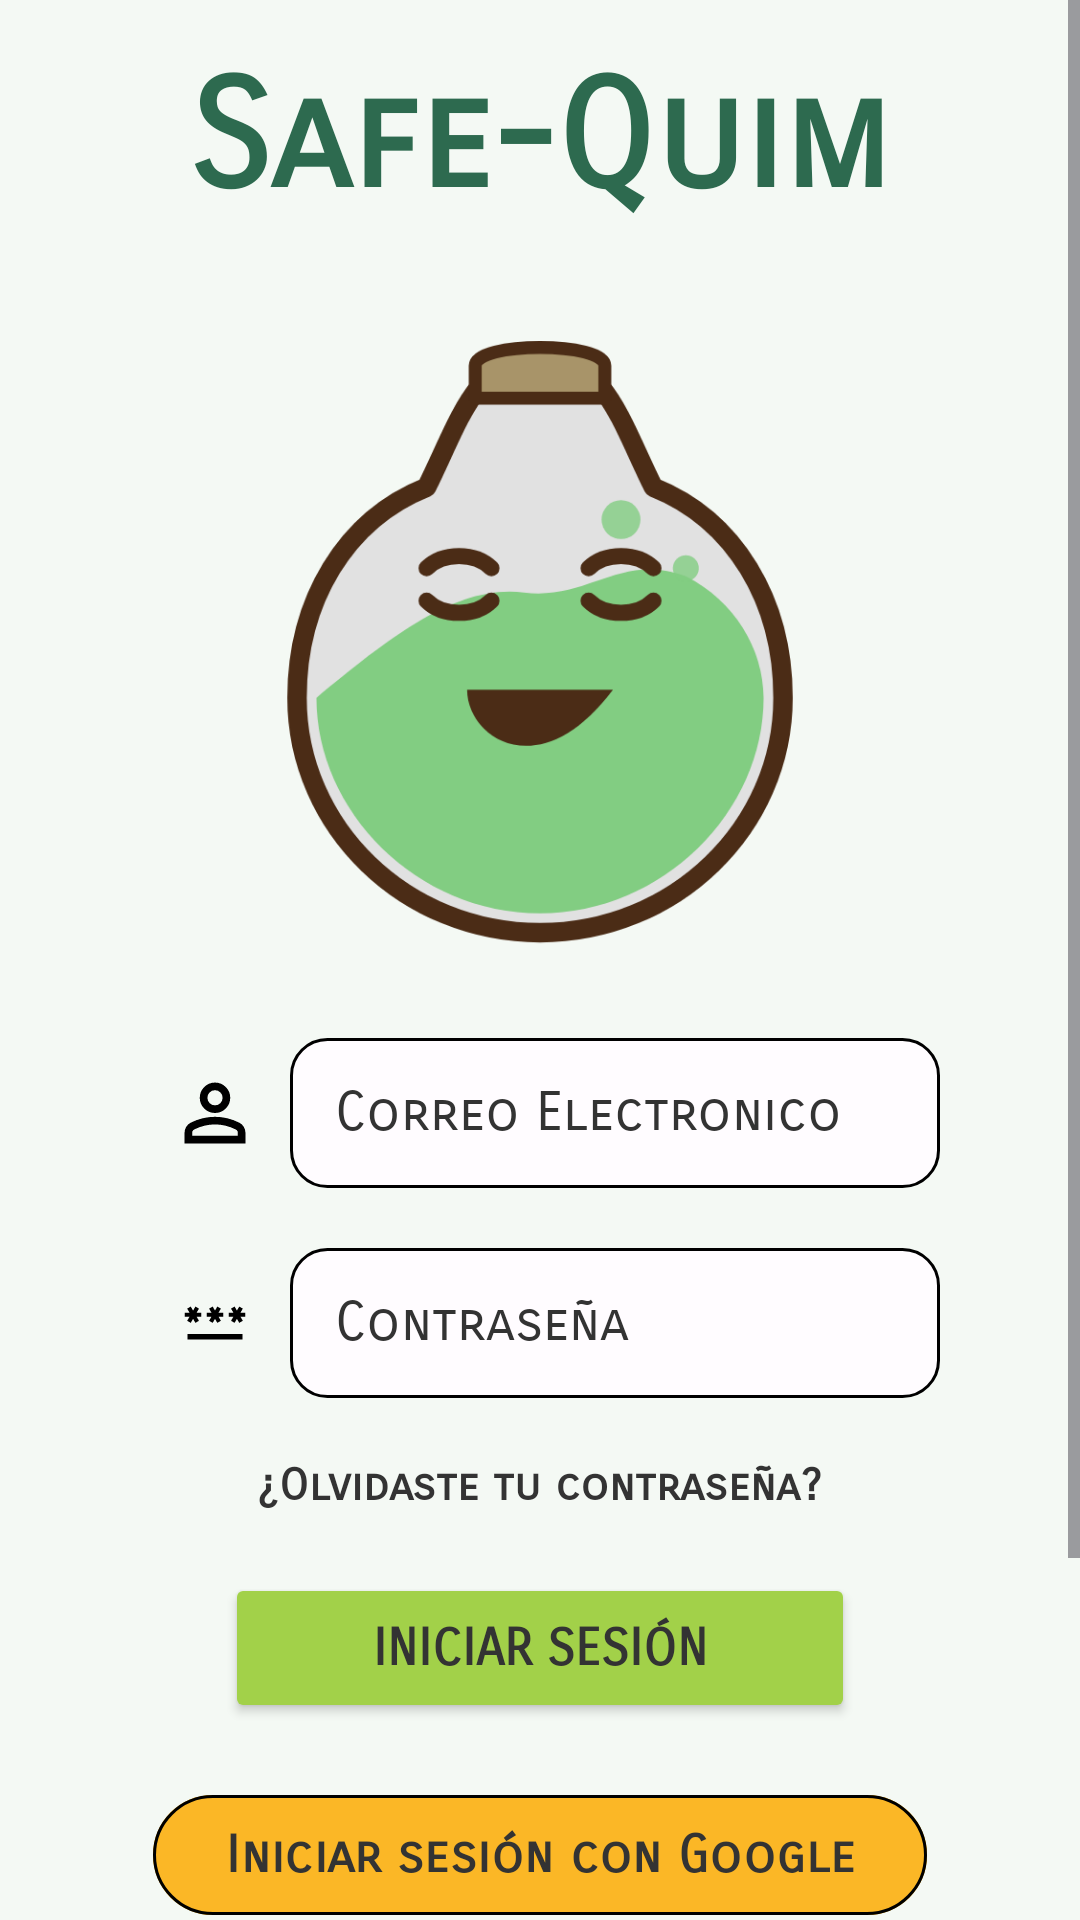

Point at icon controls on the screen. Image size 1080 × 1920, points as (x,y).
password login: (215,1323)
user login: (215,1113)
